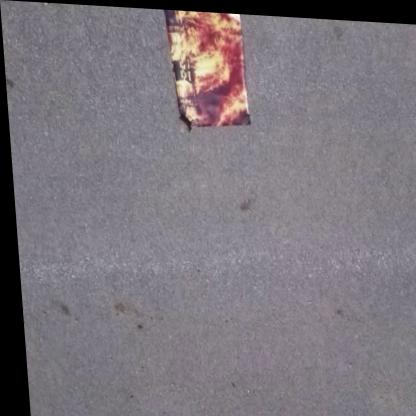fire-poster: (163, 9, 252, 132)
